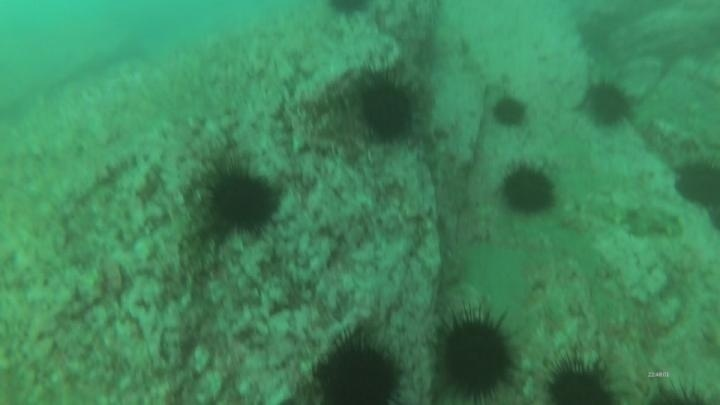echinus: (431, 309, 519, 403), (313, 333, 405, 405), (203, 162, 282, 236), (354, 73, 421, 144), (541, 353, 621, 404), (498, 162, 559, 218), (672, 157, 720, 211), (583, 80, 634, 130), (641, 373, 720, 405), (490, 95, 530, 130), (322, 0, 374, 24)
holothurian: (582, 189, 684, 240)
